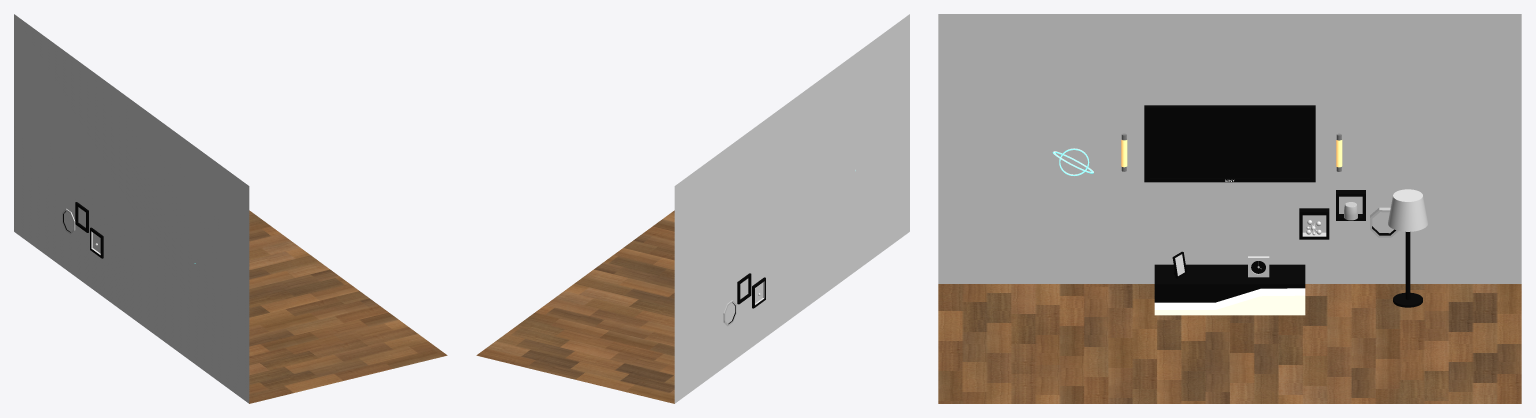
The picture shows the model from 3 angles, left to right: view 1: azimuth 30°, elevation 25°; view 2: azimuth 150°, elevation 25°; view 3: azimuth 270°, elevation 25°; orthographic projection. The views are drawn at different scales.
Parts seen in each view (by area): view 1: Plane.001_0; view 2: Plane.001_0; view 3: Plane.001_0, Plane.002_1, Plane_13, Circle.003_18, Circle.002_17, Cube.002_7.
Boxes of the visible parts, x1,y1,x2,y2 form: Plane.001_0: [14, 14, 447, 403]; Plane.001_0: [476, 14, 909, 403]; Plane.001_0: [938, 14, 1521, 403]; Plane.002_1: [1144, 105, 1315, 182]; Plane_13: [1154, 264, 1305, 315]; Circle.003_18: [1388, 189, 1428, 231]; Circle.002_17: [1393, 232, 1422, 307]; Cube.002_7: [1299, 208, 1329, 239].
Size of the model in its own units: 4.14 by 4.3 by 8.41.
19 materials, 1 textured.
